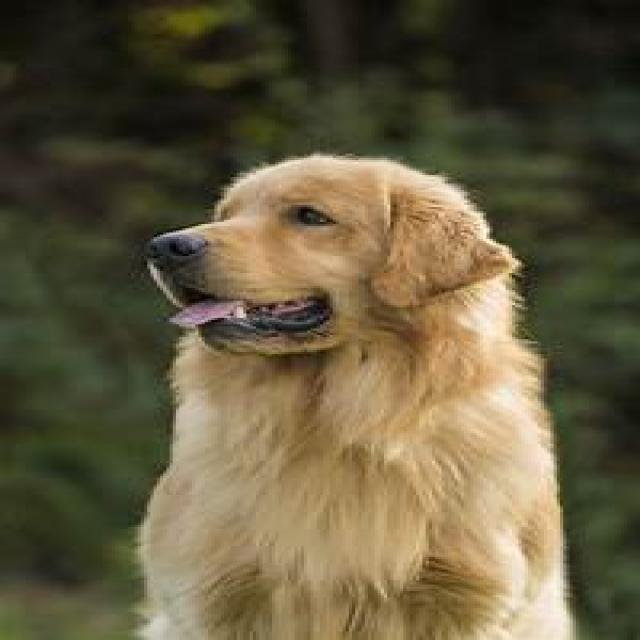dog: (142, 159, 572, 639)
